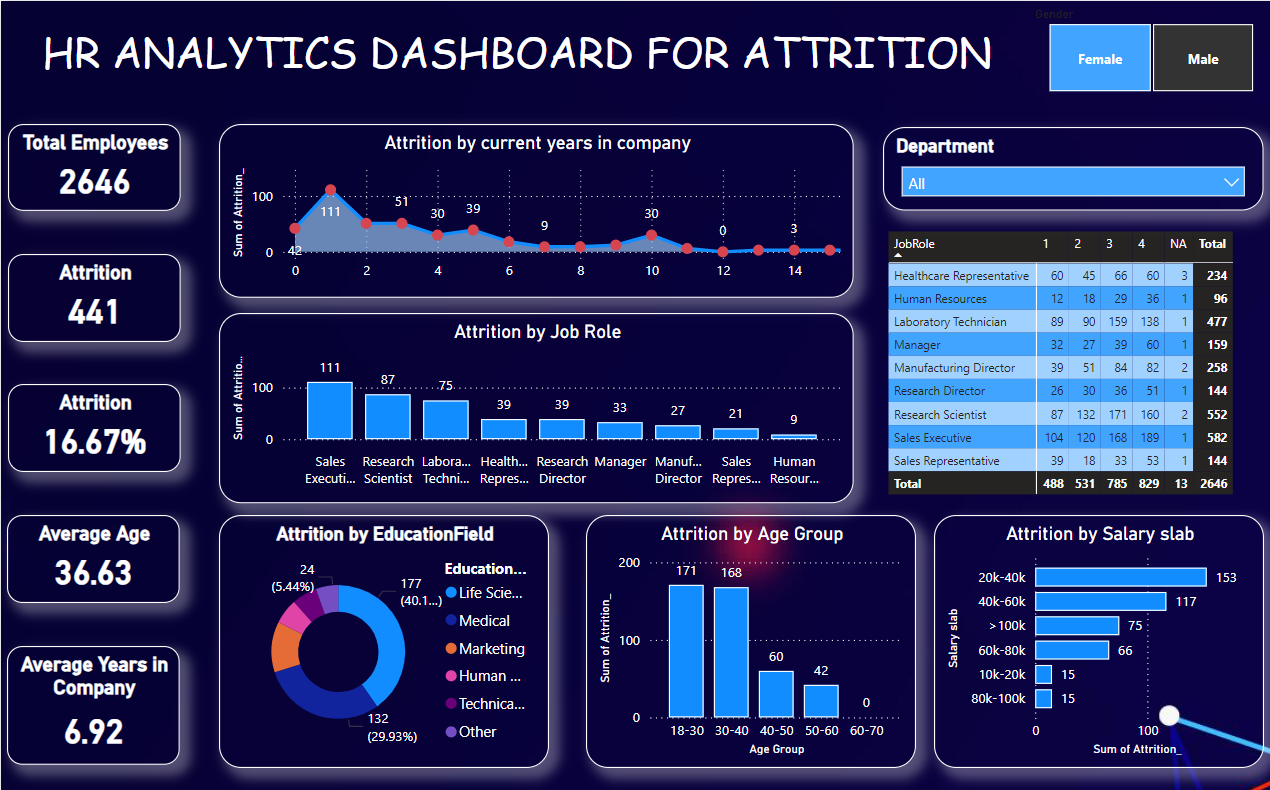

The page's visual inventory and layout, read from the dashboard file:
{"tool":"powerbi","page":{"name":"Page 1","canvas":[1280,720],"ordinal":0},"visuals":[{"type":"card","title":"Total Employees","fields":{"Values":["Sum(Attrition data.EmployeeCount)"]},"box":[6.4,111.8,157.3,79.1],"z":0},{"type":"card","title":"Attrition","fields":{"Values":["Sum(Attrition data.Attrition_)"]},"box":[6.4,229.8,157.3,80],"z":1000},{"type":"card","title":"Attrition","fields":{"Values":["Attrition data.Attrition Percentage"]},"box":[6.4,348.6,157.3,80],"z":2000},{"type":"card","title":"Average Age","fields":{"Values":["Avg(Attrition data.Age)"]},"box":[5.5,467.5,157.3,80],"z":3000},{"type":"card","title":"Average Years in Company","fields":{"Values":["Avg(Attrition data.YearsAtCompany)"]},"box":[5.5,586.4,157.3,108.2],"z":4000},{"type":"donutChart","title":"Attrition by EducationField","fields":{"Y":["Sum(Attrition data.Attrition_)"],"Category":["Attrition data.EducationField"]},"box":[198.2,467.3,300,230],"z":5000},{"type":"clusteredColumnChart","title":"Attrition by Age Group","fields":{"Category":["Attrition data.Age Group"],"Y":["Sum(Attrition data.Attrition_)"]},"box":[531.8,467.3,300,230],"z":6000},{"type":"barChart","title":"Attrition by Salary slab","fields":{"Category":["Attrition data.Salary slab"],"Y":["Sum(Attrition data.Attrition_)"]},"box":[848.2,467.3,300,230],"z":7000},{"type":"clusteredColumnChart","title":"Attrition by Job Role","fields":{"Category":["Attrition data.JobRole"],"Y":["Sum(Attrition data.Attrition_)"]},"box":[198.2,283.6,577.3,172.7],"z":8000},{"type":"areaChart","title":"Attrition by current years in company","fields":{"Category":["Attrition data.YearsAtCompany"],"Y":["Sum(Attrition data.Attrition_)"]},"box":[198.2,111.8,577.3,158.2],"z":9000},{"type":"pivotTable","fields":{"Rows":["Attrition data.JobRole"],"Columns":["Attrition data.JobSatisfaction"],"Values":["Sum(Attrition data.EmployeeCount)"]},"box":[801.8,204.5,340.9,251.8],"z":10000},{"type":"slicer","title":"Department","fields":{"Values":["Attrition data.Department"]},"box":[801.8,114.5,346.4,76.4],"z":11000},{"type":"slicer","fields":{"Values":["Attrition data.Gender"]},"box":[927.3,0,235.5,89.1],"z":11001},{"type":"textbox","box":[20.9,14.5,896.4,84.5],"z":11002}]}

Visuals, with their boxes on the page's 1280x720 design canvas (x1, y1, x2, y2). These are canvas units, not pixel positions in the 1270x790 screenshot, which may show the page scaled, cropped or inside an application window:
"Total Employees" card: (6,112,164,191)
"Attrition" card: (6,230,164,310)
"Attrition" card: (6,349,164,429)
"Average Age" card: (6,468,163,548)
"Average Years in Company" card: (6,586,163,695)
"Attrition by EducationField" donutChart: (198,467,498,697)
"Attrition by Age Group" clusteredColumnChart: (532,467,832,697)
"Attrition by Salary slab" barChart: (848,467,1148,697)
"Attrition by Job Role" clusteredColumnChart: (198,284,776,456)
"Attrition by current years in company" areaChart: (198,112,776,270)
pivotTable - Attrition data.JobRole x Attrition data.JobSatisfaction: (802,204,1143,456)
"Department" slicer: (802,114,1148,191)
slicer - Attrition data.Gender: (927,0,1163,89)
textbox: (21,14,917,99)
